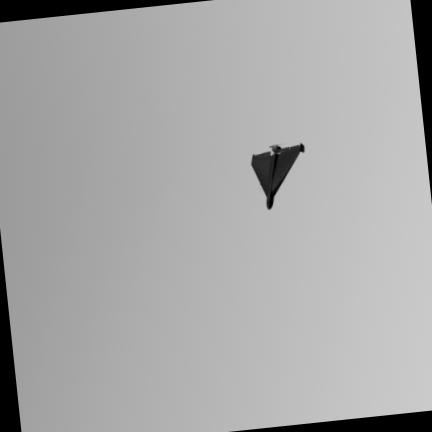Shahed: (252, 143, 304, 208)
